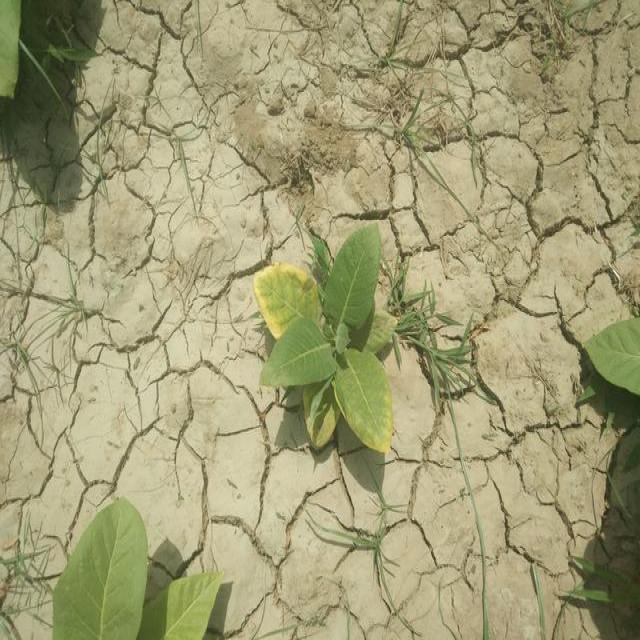crop: (257, 227, 410, 461), (54, 499, 216, 640), (585, 318, 637, 418)
